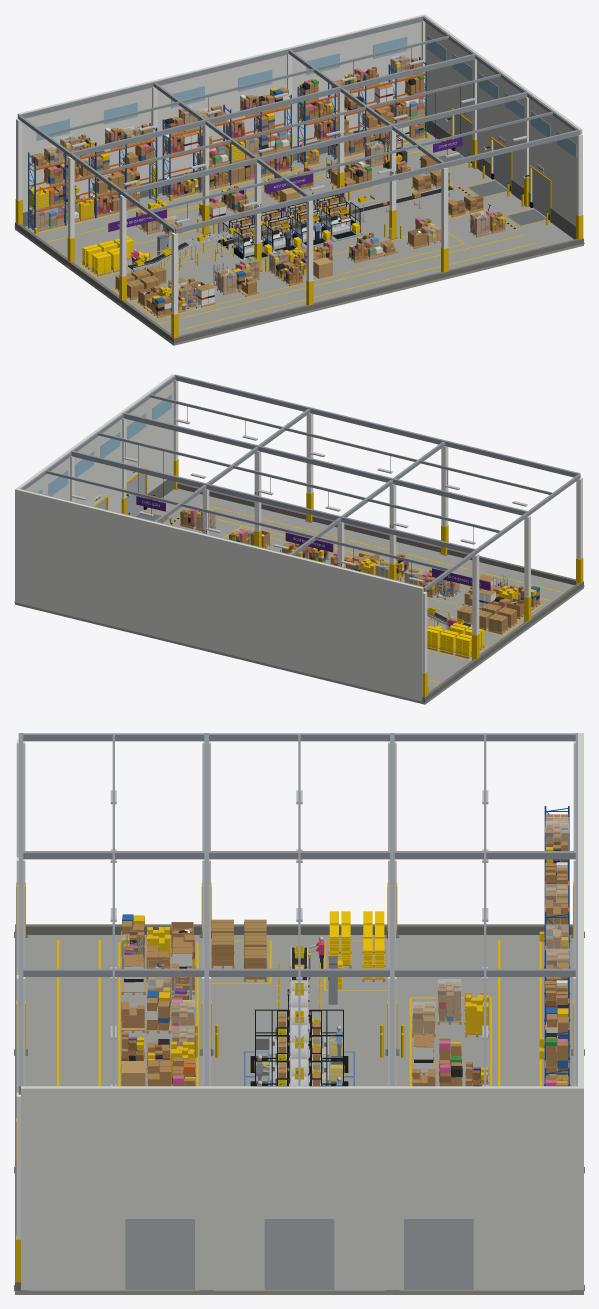
The model's file is layout-android-v3.glb.
The picture shows the model from 3 angles, top to bottom: view 1: azimuth 30°, elevation 25°; view 2: azimuth 150°, elevation 25°; view 3: azimuth 270°, elevation 25°; orthographic projection. The views are drawn at different scales.
Parts seen in each view (by area): view 1: Layout_Android_Export; view 2: Layout_Android_Export; view 3: Layout_Android_Export.
Boxes of the visible parts, x1=… form: Layout_Android_Export: x1=14, y1=14, x2=584, y2=345; Layout_Android_Export: x1=14, y1=374, x2=584, y2=704; Layout_Android_Export: x1=14, y1=733, x2=584, y2=1294.
Size of the model in its own units: 2.03 by 0.5444 by 1.37.
Materials: 2 (1 with a texture image).
